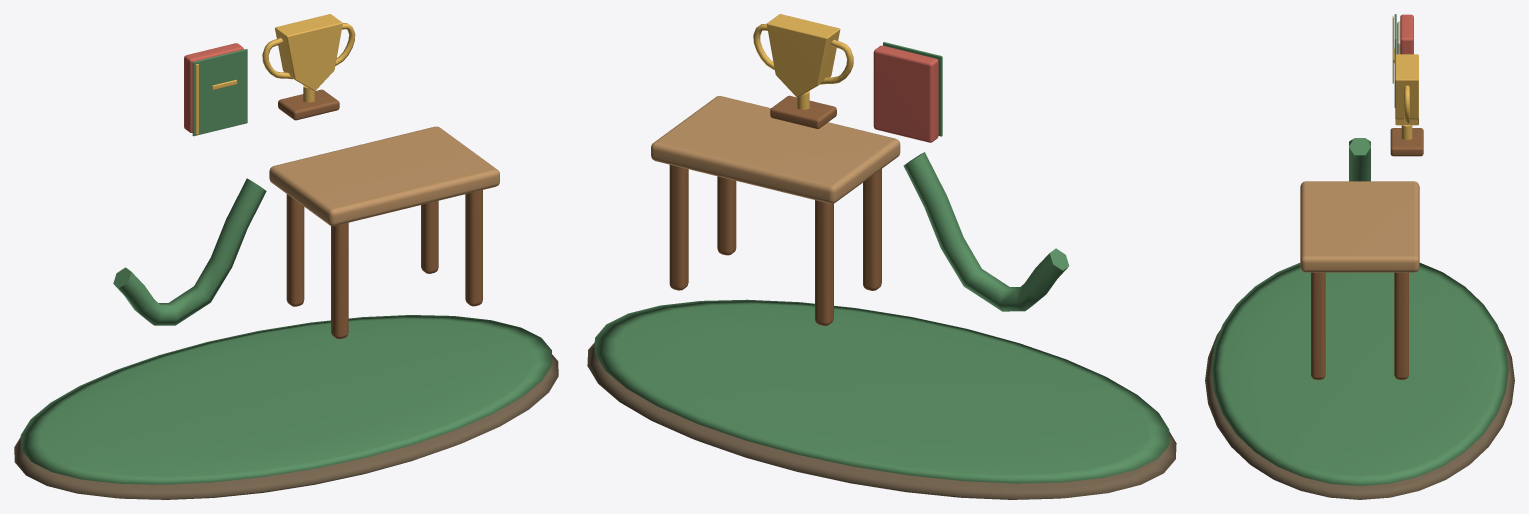
The model's file is complete-third-finished-work.glb.
The picture shows the model from 3 angles, left to right: view 1: azimuth 30°, elevation 25°; view 2: azimuth 150°, elevation 25°; view 3: azimuth 270°, elevation 25°; orthographic projection. The views are drawn at different scales.
Visible parts, largest first — view 1: complete-third-finished-work_surface_01, complete-third-finished-work_surface_02, complete-third-finished-work_surface_00, complete-third-finished-work_surface_03, complete-third-finished-work_surface_06, complete-third-finished-work_surface_04; view 2: complete-third-finished-work_surface_01, complete-third-finished-work_surface_02, complete-third-finished-work_surface_00, complete-third-finished-work_surface_03, complete-third-finished-work_surface_04, complete-third-finished-work_surface_06; view 3: complete-third-finished-work_surface_01, complete-third-finished-work_surface_02, complete-third-finished-work_surface_00, complete-third-finished-work_surface_03, complete-third-finished-work_surface_06, complete-third-finished-work_surface_04.
Boxes of the visible parts, <box> form: complete-third-finished-work_surface_01: <box>20,49,552,484</box>; complete-third-finished-work_surface_02: <box>269,126,499,226</box>; complete-third-finished-work_surface_00: <box>14,354,558,499</box>; complete-third-finished-work_surface_03: <box>278,89,482,338</box>; complete-third-finished-work_surface_06: <box>195,14,355,134</box>; complete-third-finished-work_surface_04: <box>184,43,243,132</box>; complete-third-finished-work_surface_01: <box>594,42,1169,483</box>; complete-third-finished-work_surface_02: <box>651,96,900,203</box>; complete-third-finished-work_surface_00: <box>587,342,1176,499</box>; complete-third-finished-work_surface_03: <box>669,95,881,325</box>; complete-third-finished-work_surface_04: <box>873,45,938,142</box>; complete-third-finished-work_surface_06: <box>753,14,853,109</box>; complete-third-finished-work_surface_01: <box>1211,14,1508,485</box>; complete-third-finished-work_surface_02: <box>1300,181,1419,272</box>; complete-third-finished-work_surface_00: <box>1205,330,1514,499</box>; complete-third-finished-work_surface_03: <box>1311,128,1423,379</box>; complete-third-finished-work_surface_06: <box>1392,16,1418,139</box>; complete-third-finished-work_surface_04: <box>1400,14,1413,54</box>.
Size of the model in its own units: 4.56 by 3.11 by 2.5.
